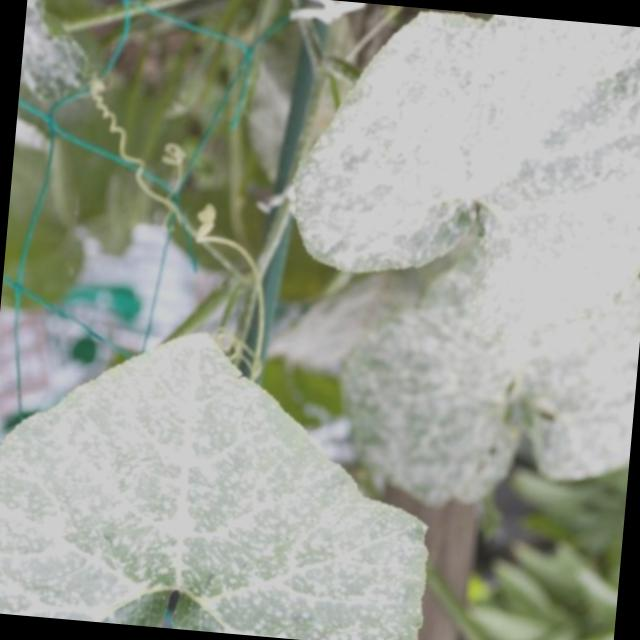Powdery_mildew_on_lettuce: (245, 0, 640, 518), (0, 317, 451, 640)
